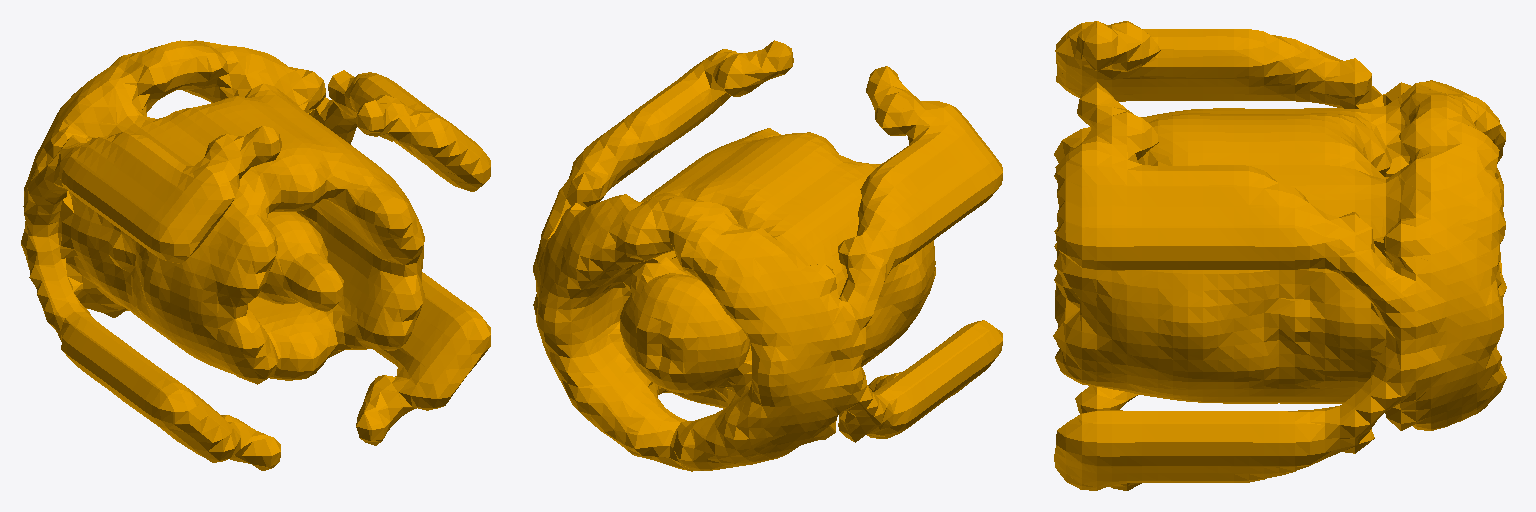
robot.urdf — D24_0:
<?xml version="1.0"?>
<robot name="D24_0">
  <link name="base_link">
    <visual>
      <geometry>
        <mesh filename="../../../../meshes/egad/train/D24_0.obj" />
      </geometry>
    </visual>
  </link>
</robot>

--- What the picture shows (computed from the rendered views, not written in the file) ---
Views: 3 orthographic renders of the robot side by side, from view 1: azimuth 30°, elevation 25°; view 2: azimuth 150°, elevation 25°; view 3: azimuth 270°, elevation 25°.
Robot: D24_0 — 1 links, 0 joints (none); root link base_link; default pose: all joints at 0.
Links seen in each view (by area): view 1: base_link; view 2: base_link; view 3: base_link.
Boxes of the visible links, x1,y1,x2,y2 form: base_link: (21, 40, 490, 470); base_link: (533, 40, 1002, 471); base_link: (1053, 21, 1506, 490).
Bounding box of the posed robot: 0.0609 × 0.0611 × 0.0603 m (x, y, z).
Meshes: 1 distinct files referenced, 1 mesh visuals loaded (1 OBJ).